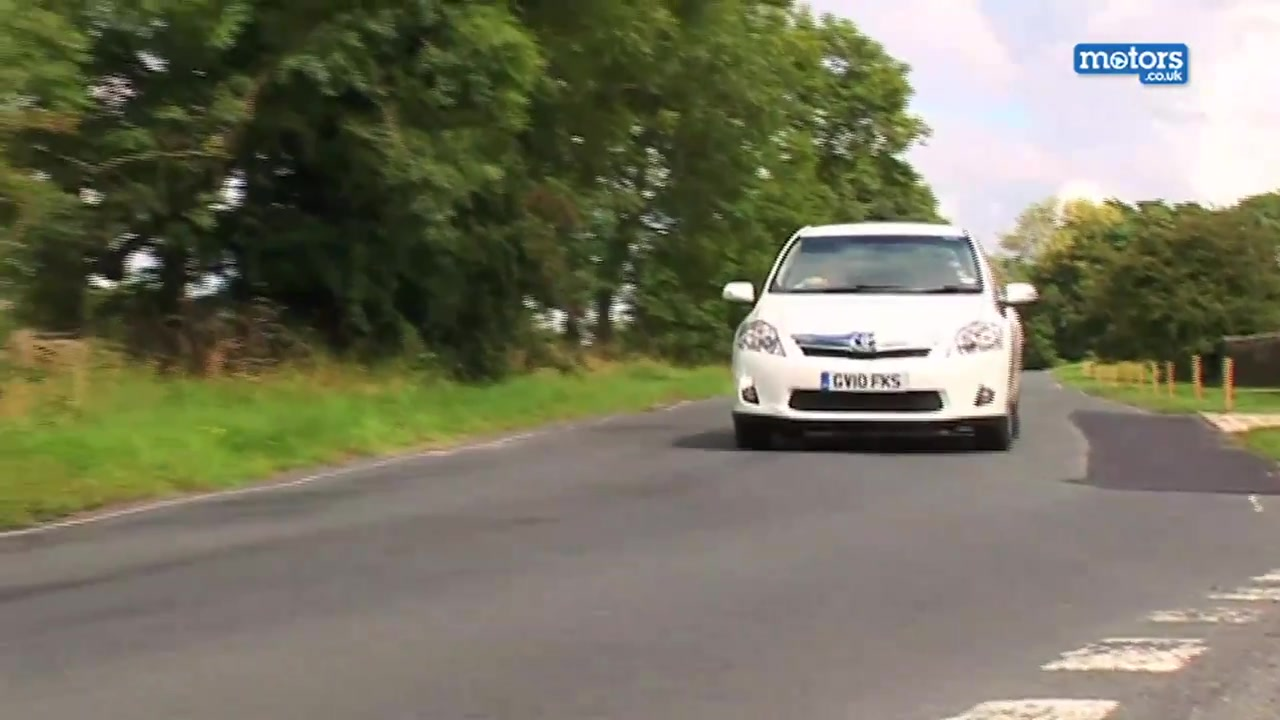car: (725, 221, 1057, 446)
